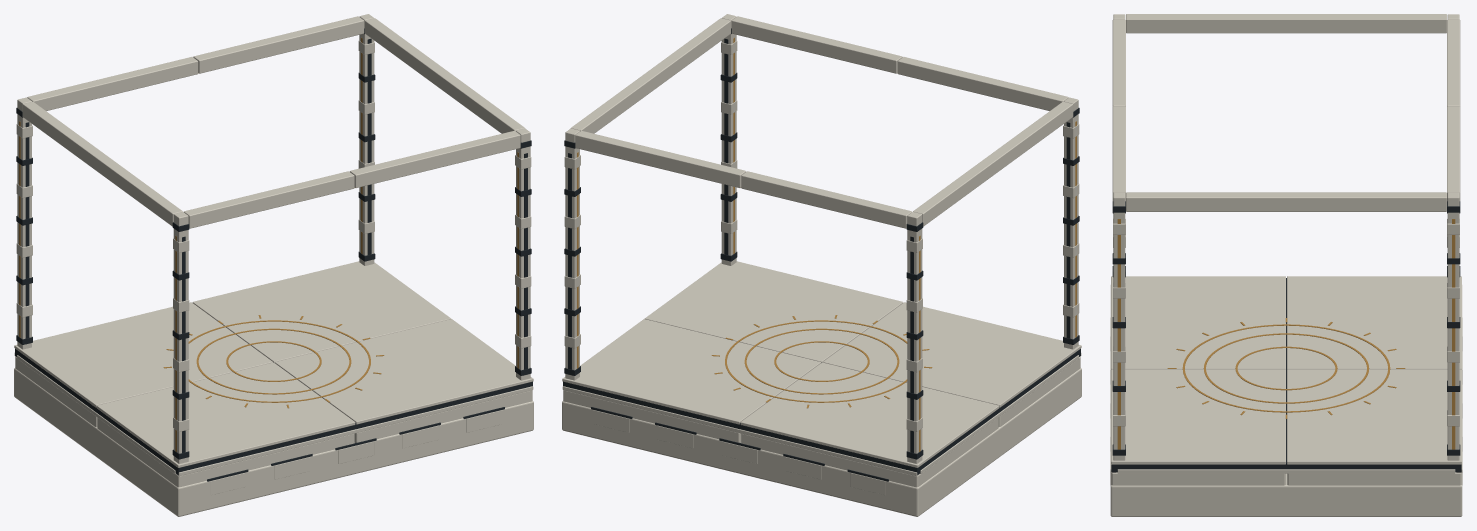
The model's file is SM_Aurelion_KIT_Z07DominionCapture.fbx.
The picture shows the model from 3 angles, left to right: view 1: azimuth 30°, elevation 25°; view 2: azimuth 150°, elevation 25°; view 3: azimuth 270°, elevation 25°; orthographic projection. The views are drawn at different scales.
Visible parts, largest first — view 1: SM_Aurelion_KIT_Z07DominionCapture; view 2: SM_Aurelion_KIT_Z07DominionCapture; view 3: SM_Aurelion_KIT_Z07DominionCapture.
Part boxes in pixels (left/top/right/bottom): SM_Aurelion_KIT_Z07DominionCapture: left=14, top=14, right=533, bottom=516; SM_Aurelion_KIT_Z07DominionCapture: left=562, top=14, right=1081, bottom=516; SM_Aurelion_KIT_Z07DominionCapture: left=1110, top=14, right=1462, bottom=516.
Size of the model in its own units: 500 by 401 by 400.
